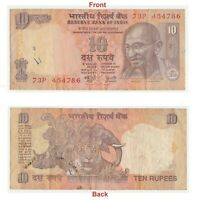ten_rupees_note: (10, 8, 186, 91), (10, 107, 187, 189)
